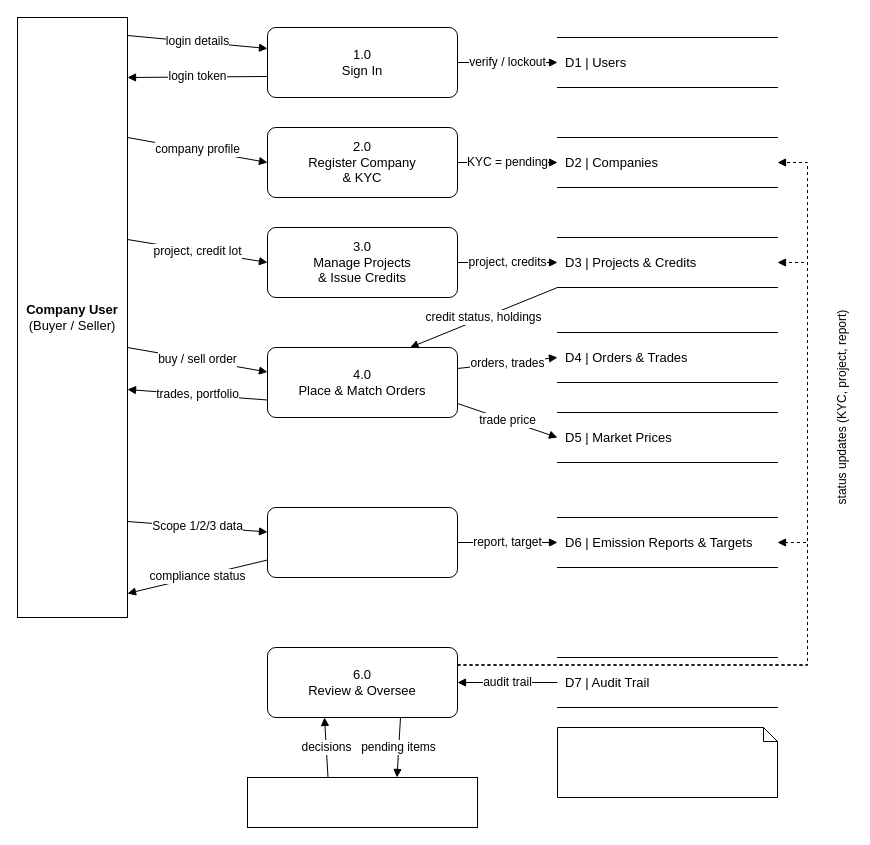
Some shapes in this 870 by 845 pixel diagram are drawn without their labels. Each missing label, with the box of its shape:
5.0 Report Emissions & Set Targets: (266, 506, 458, 578)
Administrator: (246, 776, 478, 828)
Every process 1.0–6.0 appends an event (actor, action, table, record) to D7.: (556, 726, 778, 798)
